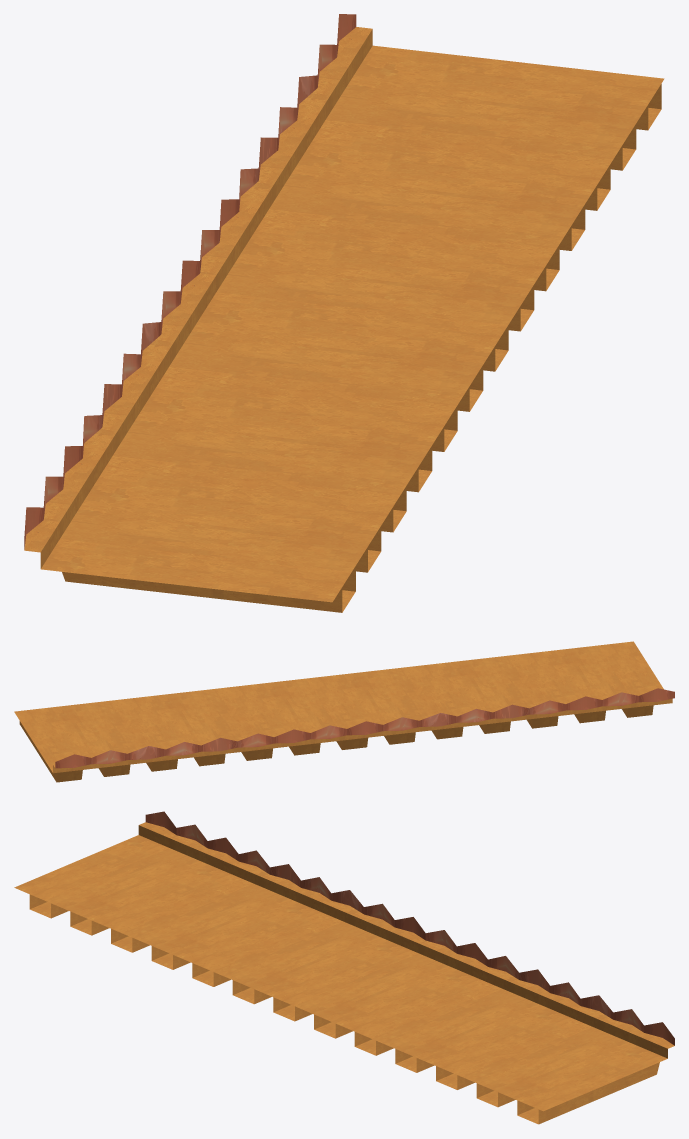
The model's file is RoofEdge_Wedge.fbx.
3 views of the same model, one above another, from view 1: azimuth 30°, elevation 25°; view 2: azimuth 150°, elevation 25°; view 3: azimuth 270°, elevation 25° (orthographic). The views are drawn at different scales.
Visible parts, largest first — view 1: RoofEdge_Wedge, RoofEdge_underside.001; view 2: RoofEdge_Wedge, RoofEdge_underside.001; view 3: RoofEdge_Wedge, RoofEdge_underside.001.
Part boxes in pixels (x1=…): RoofEdge_Wedge: x1=24, y1=14, x2=664, y2=602; RoofEdge_underside.001: x1=62, y1=84, x2=661, y2=612; RoofEdge_Wedge: x1=14, y1=641, x2=674, y2=773; RoofEdge_underside.001: x1=19, y1=705, x2=653, y2=782; RoofEdge_Wedge: x1=14, y1=811, x2=674, y2=1111; RoofEdge_underside.001: x1=29, y1=894, x2=659, y2=1124.
Size of the model in its own units: 3.75 by 3.75 by 0.2561.
